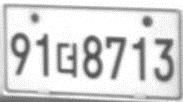1: (34, 32, 51, 77), (132, 36, 146, 81)
3: (153, 37, 175, 82)
7: (104, 36, 127, 79)
8: (82, 34, 103, 79)
9: (10, 32, 30, 77)
더: (56, 41, 79, 79)
